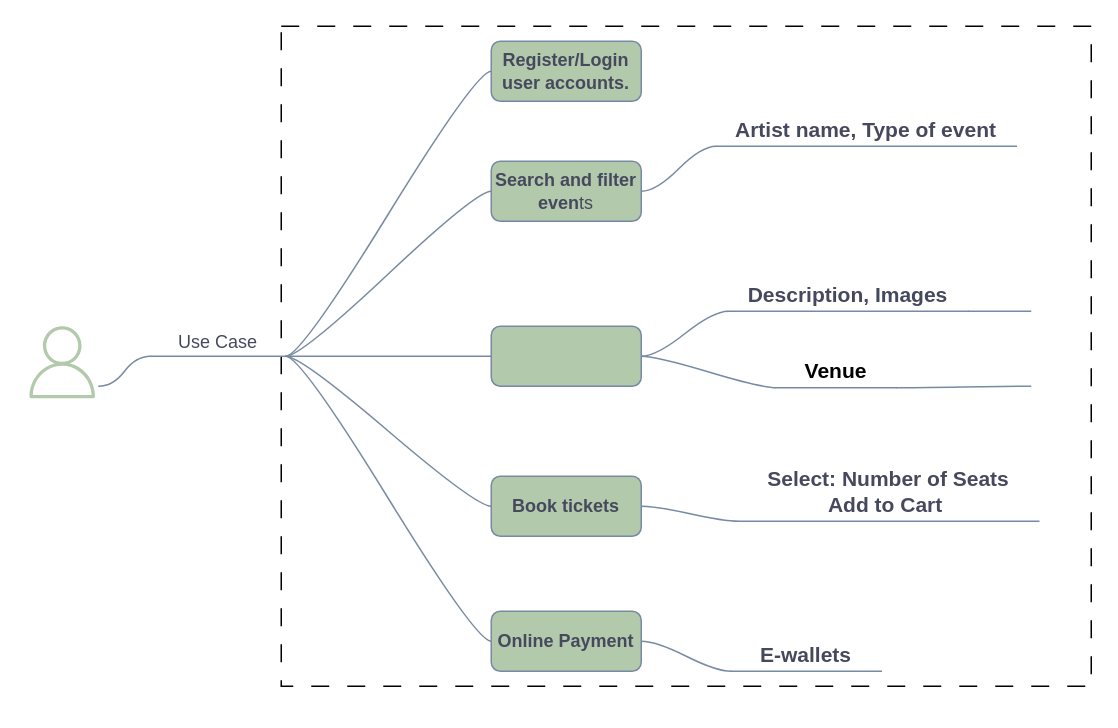
This 1118x728 diagram has some shape labels left out. Each missing label, with the centre of its shape:
"User" belongs at point (62, 362).
"View event details" belongs at point (565, 355).
